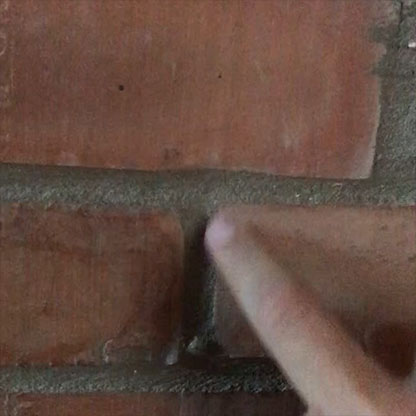fingertip: (193, 205, 255, 255)
